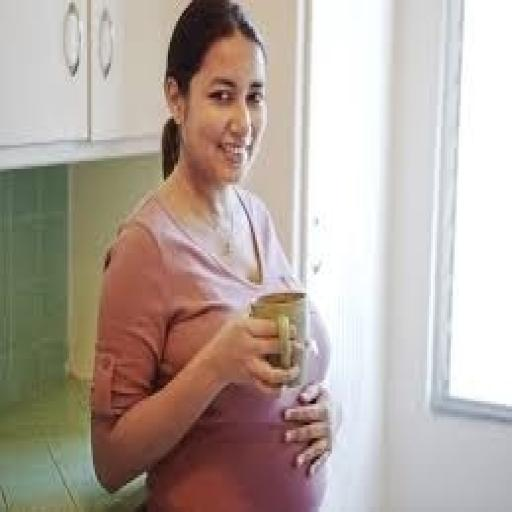drinking: (247, 290, 308, 394)
